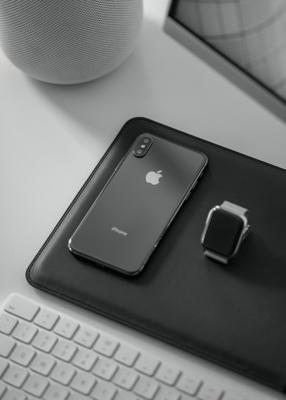Mobile Phone: (66, 130, 208, 277)
